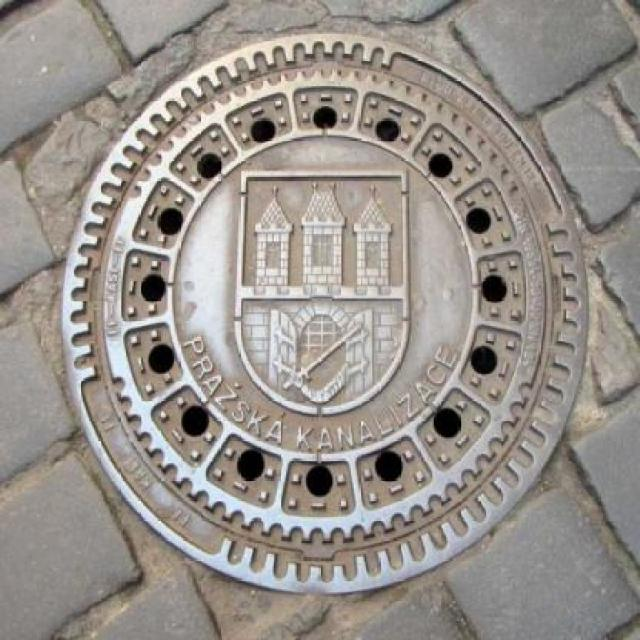Manhole: (59, 32, 592, 592)
